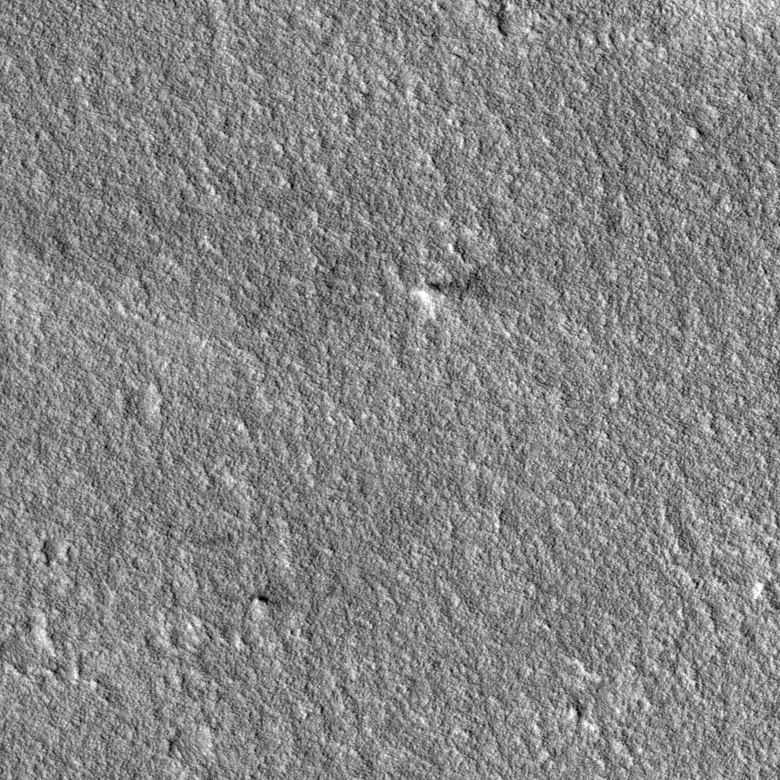dust_devil: (410, 267, 492, 321)
